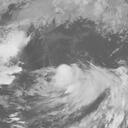cyclone: (34, 63, 104, 102)
